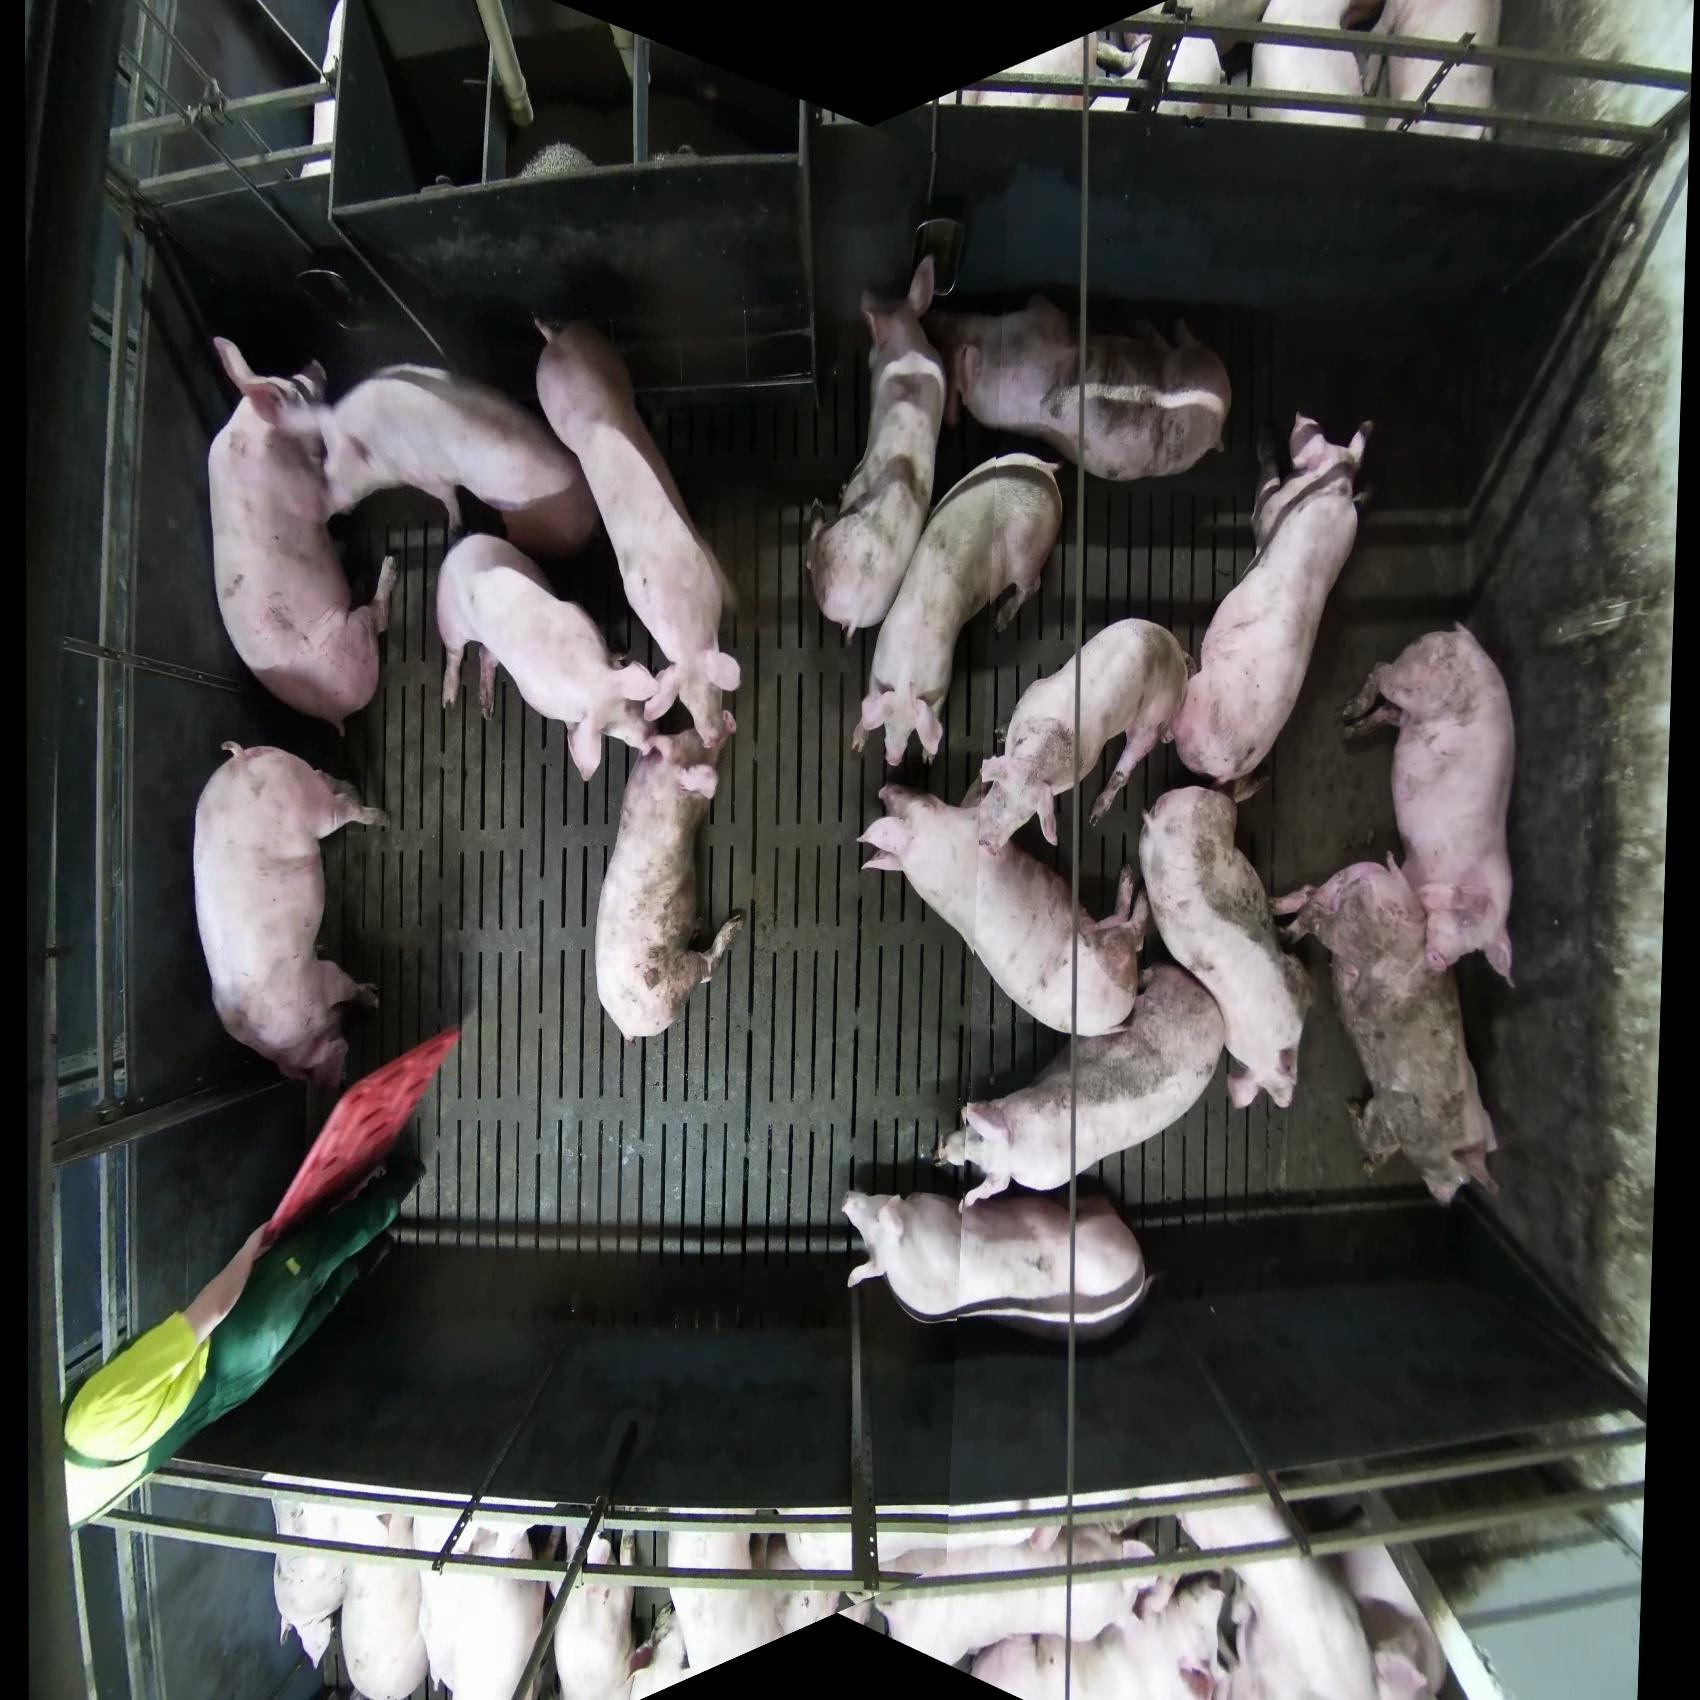pig: (266, 1492, 1452, 1700), (531, 313, 743, 753), (1271, 855, 1502, 1207), (1169, 411, 1376, 805), (205, 335, 399, 735), (855, 781, 1151, 1038), (933, 961, 1228, 1211), (191, 740, 391, 1091), (850, 452, 1065, 770), (1338, 620, 1518, 989), (435, 531, 681, 782), (930, 292, 1234, 483), (1137, 784, 1313, 1113), (806, 254, 948, 644), (321, 360, 600, 557), (972, 616, 1194, 856), (1130, 1499, 1381, 1700), (593, 715, 745, 1042), (840, 1183, 1151, 1341), (868, 1521, 1158, 1669), (963, 1567, 1260, 1700), (631, 1525, 838, 1699), (1292, 1497, 1451, 1699), (419, 1522, 566, 1699), (1359, 1, 1504, 142), (1248, 1, 1382, 128), (339, 1508, 428, 1699), (551, 1525, 646, 1699), (957, 27, 1145, 114), (268, 1494, 357, 1670), (1095, 27, 1228, 123)
worker: (60, 1023, 463, 1530)
